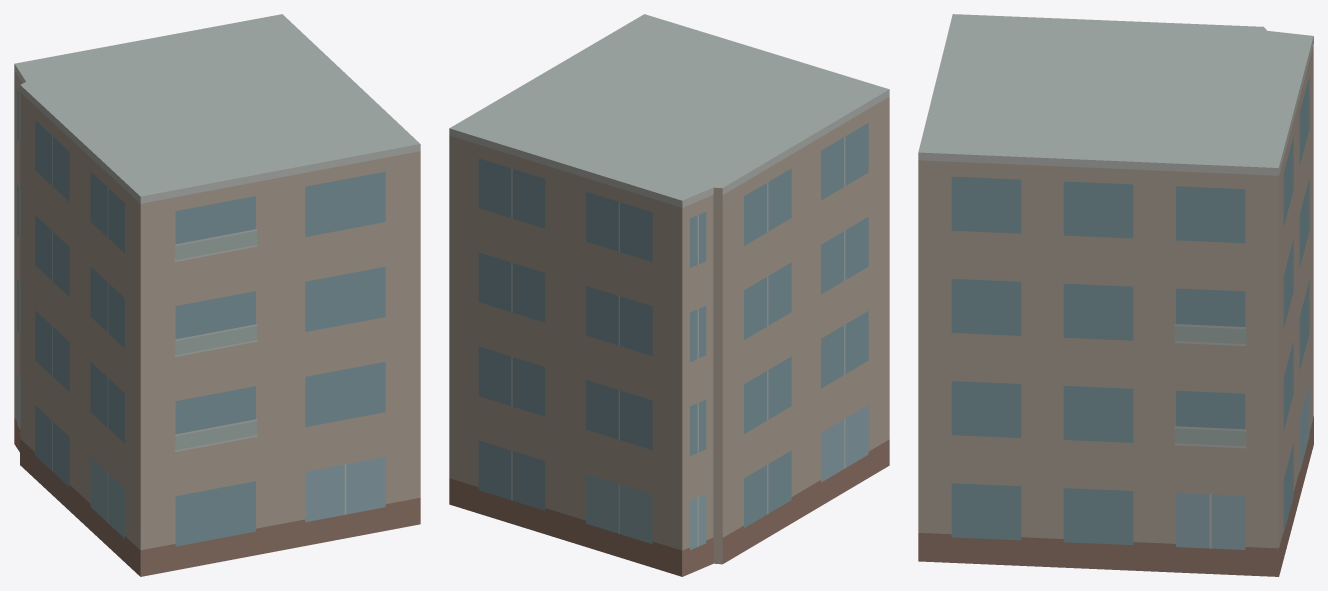
The model's file is survey-upis-32806148.glb.
3 views of the same model, side by side, from view 1: azimuth 30°, elevation 25°; view 2: azimuth 150°, elevation 25°; view 3: azimuth 270°, elevation 25° (orthographic). The views are drawn at different scales.
Parts seen in each view (by area): view 1: survey-upis-32806148.tmp; view 2: survey-upis-32806148.tmp; view 3: survey-upis-32806148.tmp.
Part boxes in pixels (<box>): survey-upis-32806148.tmp: <box>14,14,420,576</box>; survey-upis-32806148.tmp: <box>449,14,889,576</box>; survey-upis-32806148.tmp: <box>918,14,1313,576</box>.
Bounding box in the file's own units: 10.43 × 12.9 × 11.32.
